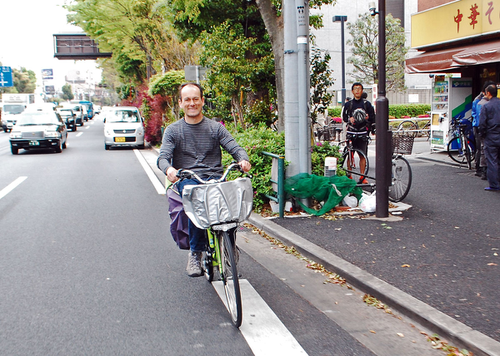bikerider: (146, 76, 290, 341)
